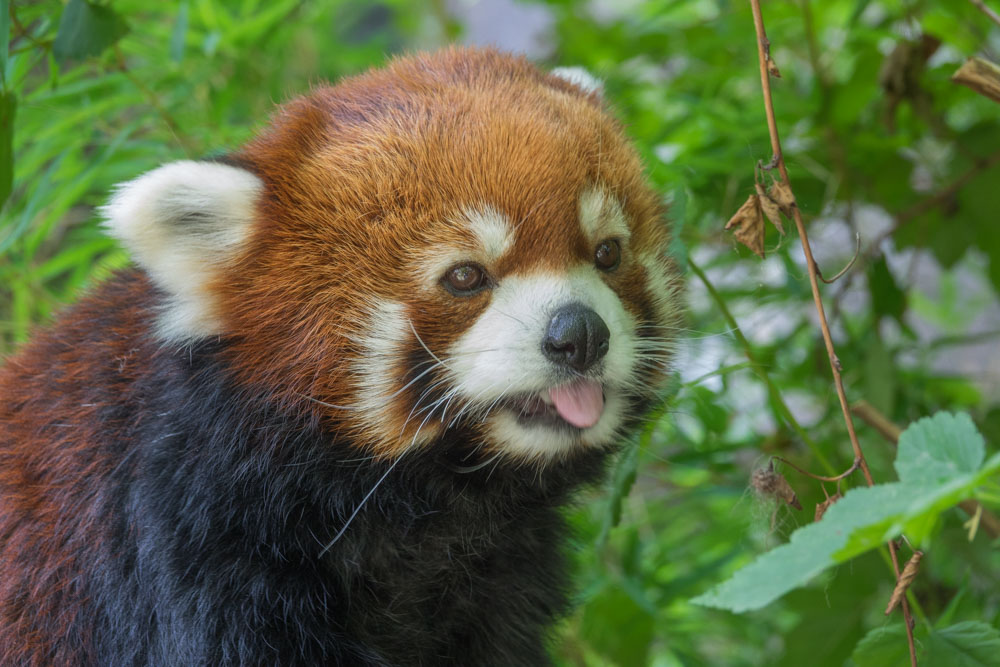Red panda: (100, 42, 691, 487)
